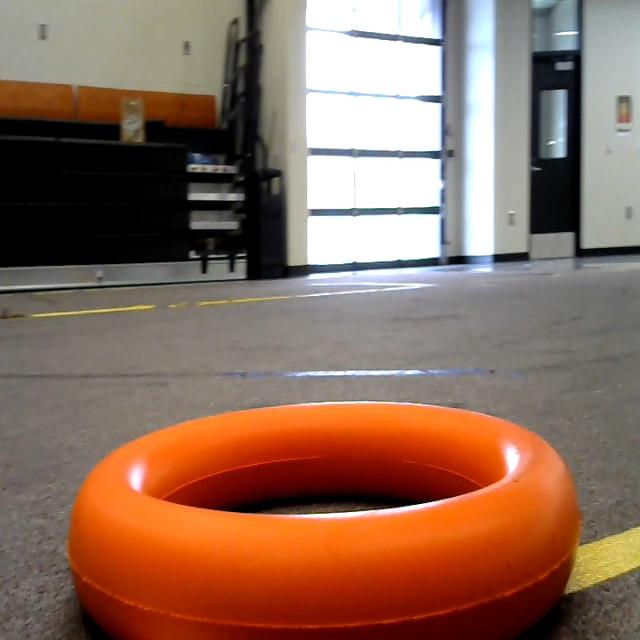note: (53, 394, 586, 640)
